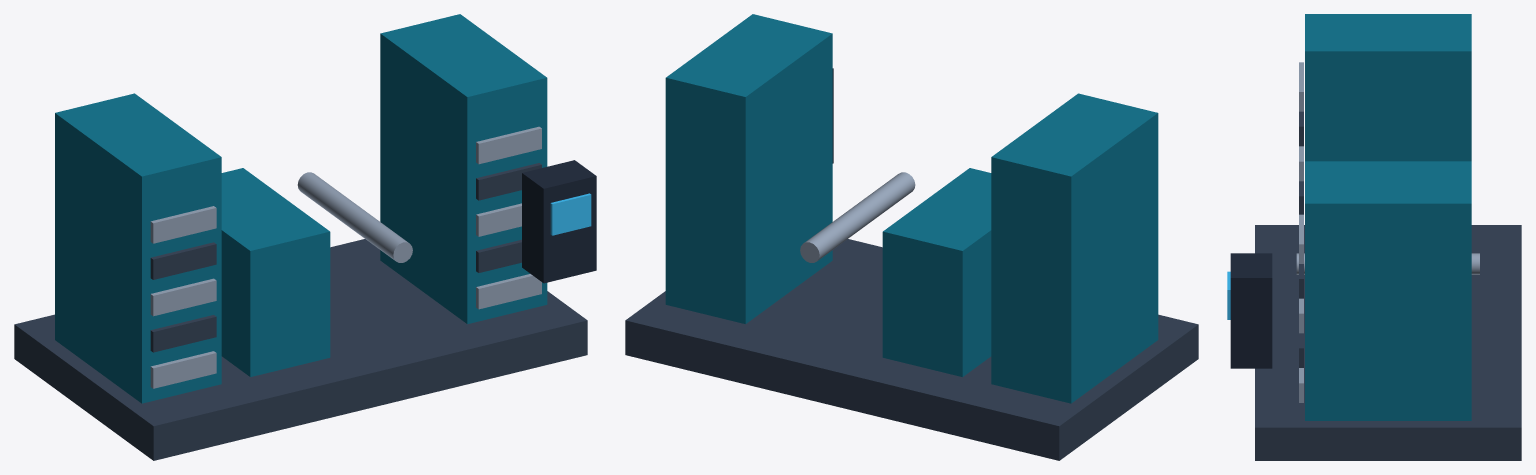
3 renders of one model, left to right at view 1: azimuth 30°, elevation 25°; view 2: azimuth 150°, elevation 25°; view 3: azimuth 270°, elevation 25°, orthographic. The views are drawn at different scales.
Visible parts, largest first — view 1: support_base, rack_0, control_3, testhead_1, operator_console, cables_pipe_2, rack_drawer_0_1, rack_drawer_0_0, rack_drawer_0_4, rack_drawer_0_2, rack_drawer_0_3, control_drawer_3_4 (+5 smaller); view 2: rack_0, control_3, support_base, testhead_1, cables_pipe_2; view 3: control_3, support_base, rack_0, operator_console, testhead_1.
Part boxes in pixels (<box>): support_base: <box>14,239,587,460</box>; rack_0: <box>55,93,221,403</box>; control_3: <box>380,14,547,324</box>; testhead_1: <box>221,168,330,376</box>; operator_console: <box>522,160,596,283</box>; cables_pipe_2: <box>297,172,412,262</box>; rack_drawer_0_1: <box>150,315,216,352</box>; rack_drawer_0_0: <box>150,351,216,388</box>; rack_drawer_0_4: <box>150,206,216,243</box>; rack_drawer_0_2: <box>150,278,216,316</box>; rack_drawer_0_3: <box>150,242,216,279</box>; control_drawer_3_4: <box>476,126,541,164</box>; rack_0: <box>991,93,1158,403</box>; control_3: <box>665,14,832,323</box>; support_base: <box>625,239,1198,460</box>; testhead_1: <box>882,168,991,376</box>; cables_pipe_2: <box>800,172,915,262</box>; control_3: <box>1305,166,1471,420</box>; support_base: <box>1255,225,1521,460</box>; rack_0: <box>1305,14,1471,161</box>; operator_console: <box>1230,253,1272,368</box>; testhead_1: <box>1305,161,1471,166</box>.
Bounding box in the file's own units: 2.88 × 1.66 × 1.77.
